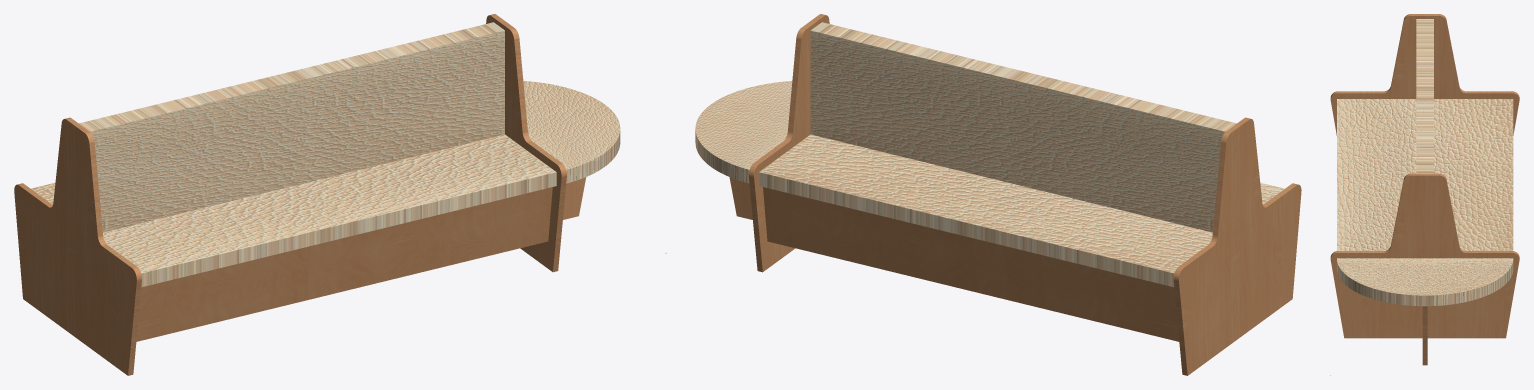
Rendered from divan_cheburashka_2_s_odnim_bok_sid_polumjagkij.glb.
3 views of the same model, side by side, from view 1: azimuth 30°, elevation 25°; view 2: azimuth 150°, elevation 25°; view 3: azimuth 270°, elevation 25° (orthographic). The views are drawn at different scales.
Visible parts, largest first — view 1: Shape_IndexedFaceSet.002_NON, Shape_IndexedFaceSet.005_NON, Shape_IndexedFaceSet.004, Shape_IndexedFaceSet.006, Shape_IndexedFaceSet_NON, Shape_IndexedFaceSet.007, Shape_IndexedFaceSet.001; view 2: Shape_IndexedFaceSet.002_NON, Shape_IndexedFaceSet.005_NON, Shape_IndexedFaceSet.003, Shape_IndexedFaceSet.006, Shape_IndexedFaceSet_NON, Shape_IndexedFaceSet.007, Shape_IndexedFaceSet.001; view 3: Shape_IndexedFaceSet.005_NON, Shape_IndexedFaceSet.007, Shape_IndexedFaceSet_NON, Shape_IndexedFaceSet.006, Shape_IndexedFaceSet.002_NON, Shape_IndexedFaceSet.001.
Boxes of the visible parts, box(x1,y1,x2,y2) form: Shape_IndexedFaceSet.002_NON: box(79, 22, 504, 232); Shape_IndexedFaceSet.005_NON: box(31, 134, 556, 287); Shape_IndexedFaceSet.004: box(136, 187, 552, 341); Shape_IndexedFaceSet.006: box(14, 117, 141, 375); Shape_IndexedFaceSet_NON: box(523, 81, 620, 183); Shape_IndexedFaceSet.007: box(486, 14, 566, 272); Shape_IndexedFaceSet.001: box(563, 177, 586, 219); Shape_IndexedFaceSet.002_NON: box(810, 22, 1236, 232); Shape_IndexedFaceSet.005_NON: box(759, 134, 1284, 287); Shape_IndexedFaceSet.003: box(763, 187, 1179, 341); Shape_IndexedFaceSet.006: box(1173, 117, 1301, 375); Shape_IndexedFaceSet_NON: box(695, 81, 792, 183); Shape_IndexedFaceSet.007: box(748, 14, 829, 272); Shape_IndexedFaceSet.001: box(729, 177, 752, 219); Shape_IndexedFaceSet.005_NON: box(1337, 99, 1513, 250); Shape_IndexedFaceSet.007: box(1330, 173, 1519, 338); Shape_IndexedFaceSet_NON: box(1337, 258, 1513, 306); Shape_IndexedFaceSet.006: box(1330, 14, 1519, 135); Shape_IndexedFaceSet.002_NON: box(1416, 19, 1433, 173); Shape_IndexedFaceSet.001: box(1422, 306, 1427, 365).
Size of the model in its own units: 1601 by 611 by 643.
9 materials, 8 textured.
